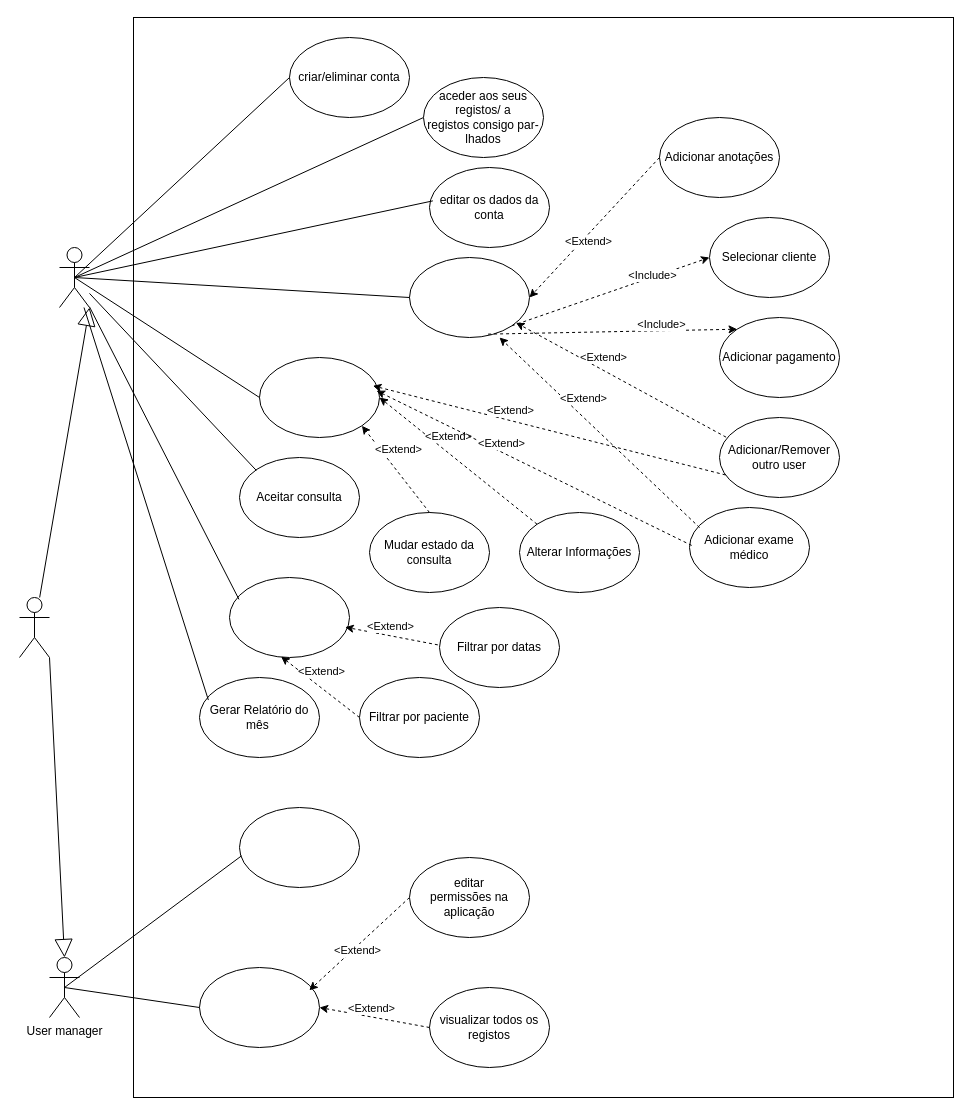
The diagram is 971 pixels wide and 1115 high, and some of its shapes have lost their labels. The centre of each missing label's shape, as x and y in pixels:
"Admin" goes at [34,627].
"Criar Consulta" goes at [469,297].
"Criar/Eliminar utilizadores" goes at [299,847].
"Listar Consultas" goes at [289,617].
"Selecionar Consulta" goes at [319,397].
"Selecionar Utilizador" goes at [259,1007].
"User" goes at [74,277].
